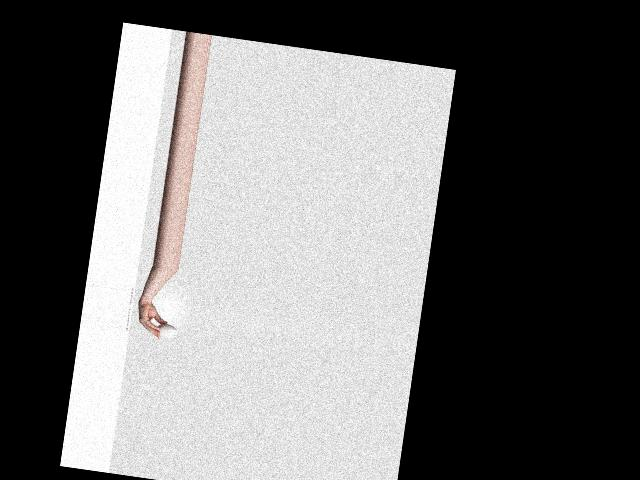egg: (155, 322, 178, 338)
